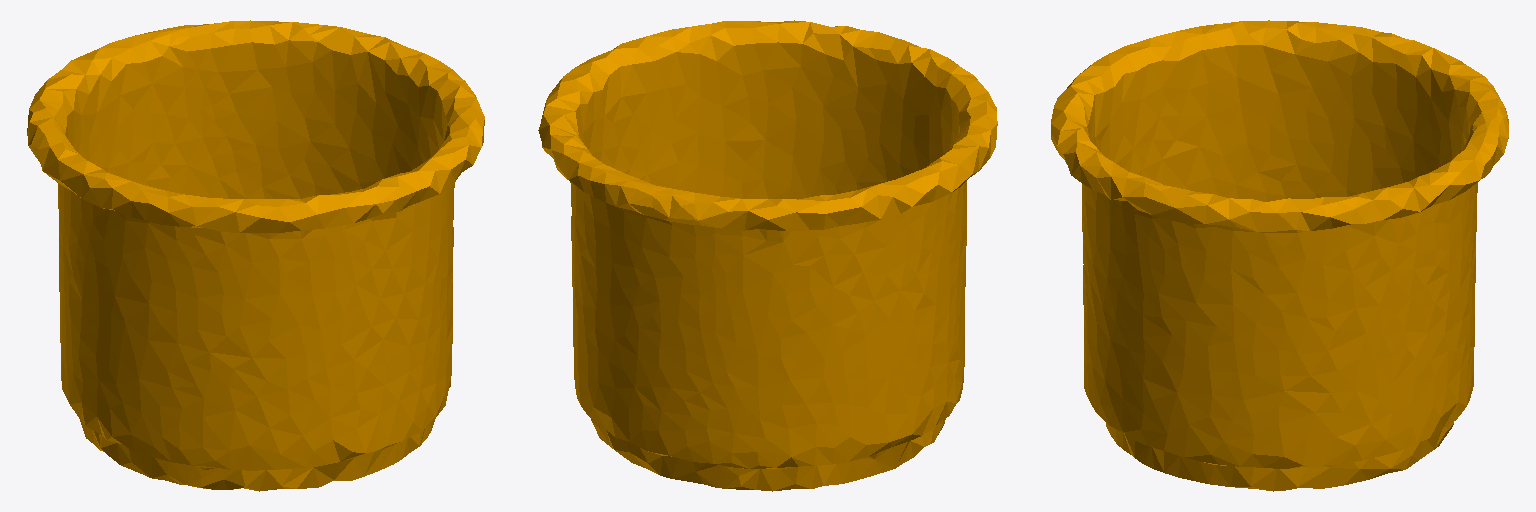
URDF robot description (jCup):
<?xml version="1.0" encoding="UTF-8"?>
<robot name="jCup">
	<link name="base">
		<collision>
			<geometry>
				<mesh filename="jCup.obj"/>
			</geometry>
			<origin xyz="0 0 0"/>
		</collision>
		<visual>
			<geometry>
				<mesh filename="jCup.obj"/>
			</geometry>
			<origin xyz="0 0 0"/>
		</visual>
		<inertial>
			<mass value="0.038"/>
			<inertia ixx="5.5607422881569746e-05" ixy="-9.701408838425732e-08" ixz="2.8520123143322215e-07" iyy="5.628913783339282e-05" iyz="2.8613216600285953e-07" izz="6.510695840239867e-05" />
			<origin xyz="0.0005845688132926551 0.0004141255584700271 -0.0006025270166255087"/>
		</inertial>
	</link>
</robot>

--- Render facts (derived) ---
The picture shows the robot from 3 angles, left to right: view 1: azimuth 30°, elevation 25°; view 2: azimuth 150°, elevation 25°; view 3: azimuth 270°, elevation 25°; orthographic projection.
Robot: jCup — 1 links, 0 joints (none); root link base; default pose: all joints at 0.
Visible links, largest first — view 1: base; view 2: base; view 3: base.
Boxes of the visible links, bbox=[...] form: base: bbox=[27, 20, 484, 491]; base: bbox=[538, 20, 997, 491]; base: bbox=[1051, 20, 1508, 491].
Size in the robot's own frame: 0.1026 by 0.1028 by 0.0759 metres.
Meshes: 1 distinct files referenced, 1 mesh visuals loaded (1 OBJ).